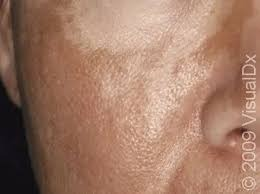Melasma: (70, 47, 208, 156), (22, 2, 260, 52)
